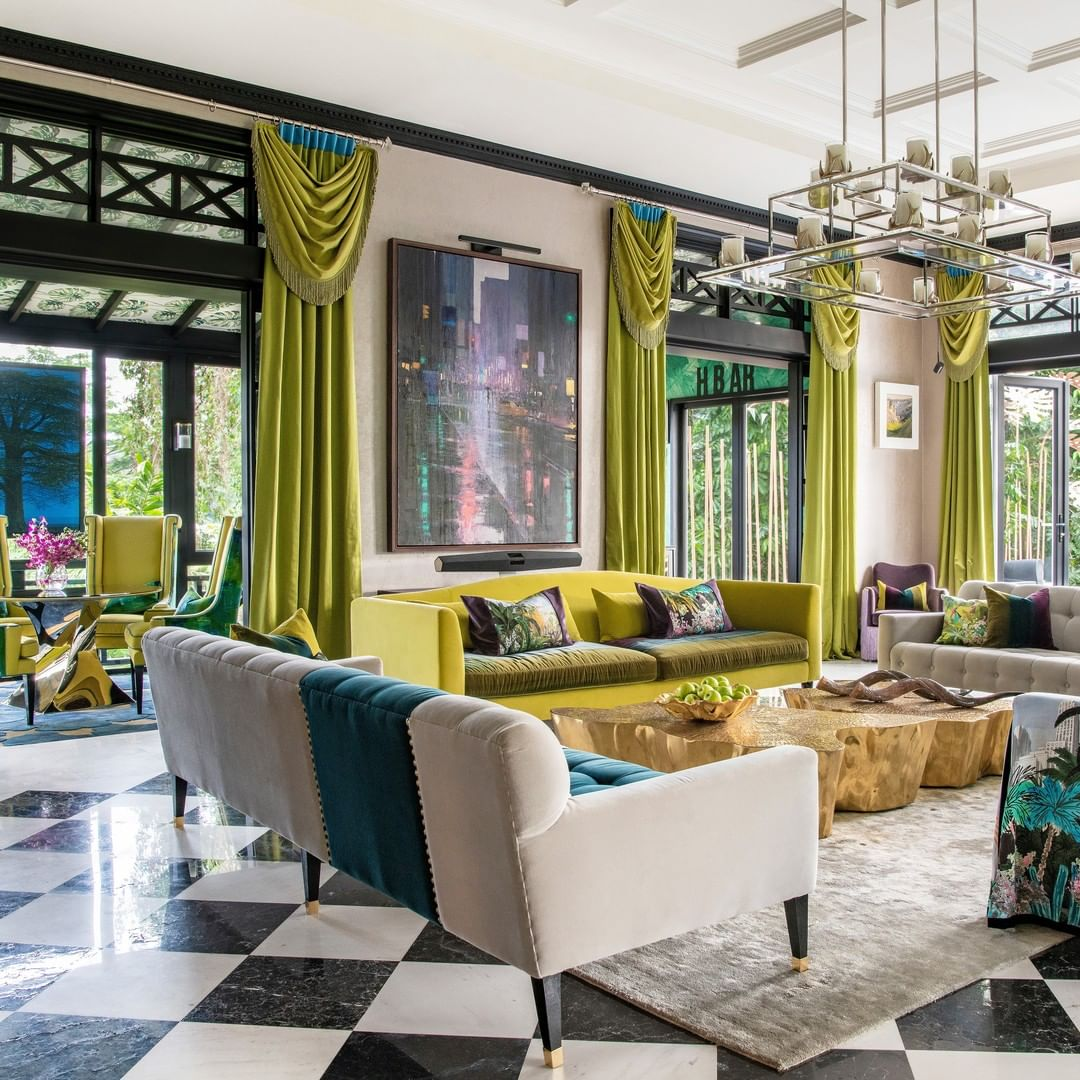biru: (310, 684, 430, 893)
coklat: (800, 687, 1001, 788)
hijau: (356, 577, 820, 689), (90, 514, 178, 589)
putih: (422, 721, 812, 951)
